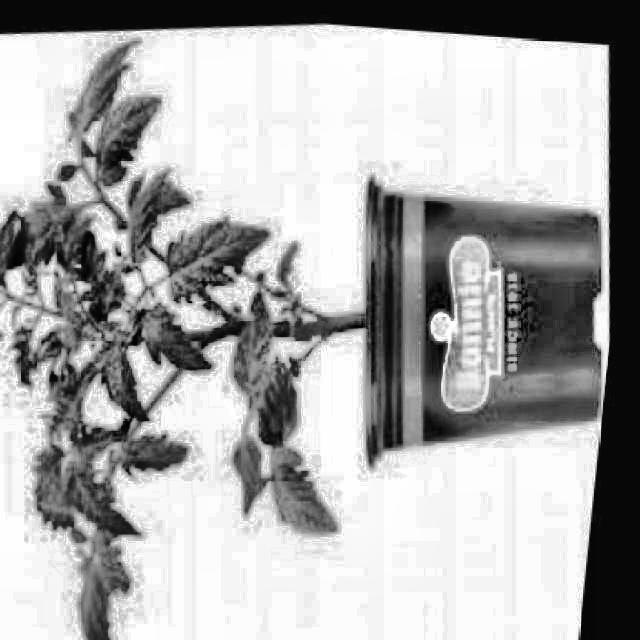plants: (0, 0, 461, 638)
